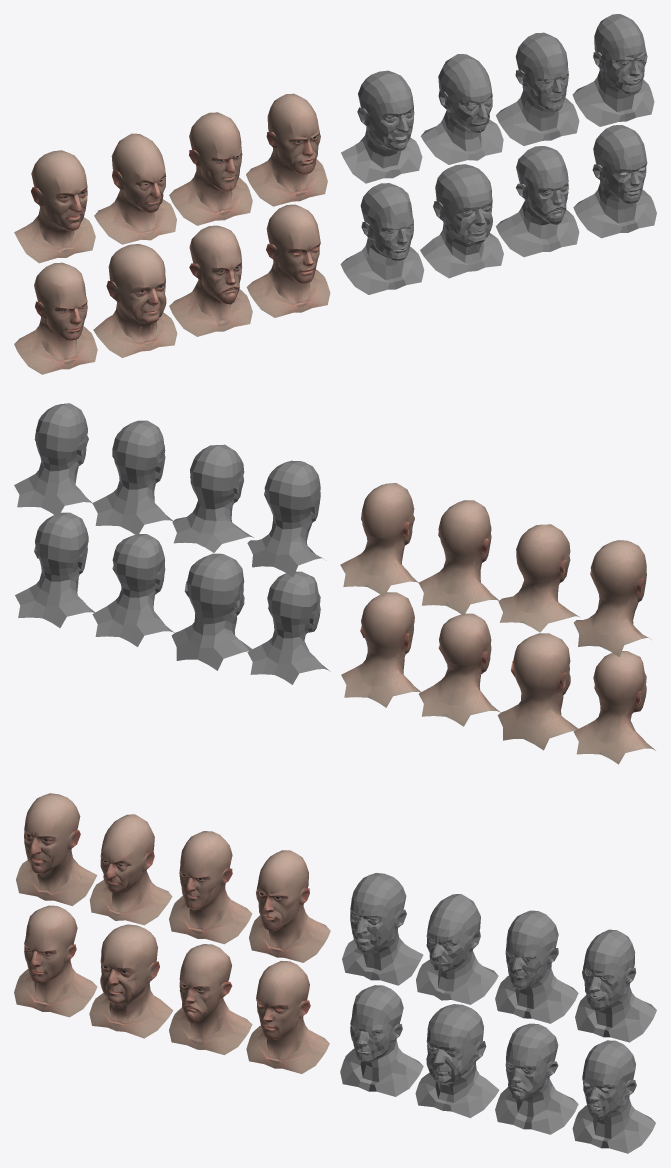
File: depicardstathamrockcruise.glb
3 renders of one model, top to bottom at view 1: azimuth 30°, elevation 25°; view 2: azimuth 150°, elevation 25°; view 3: azimuth 330°, elevation 25°, orthographic.
Visible parts, largest first — view 1: Object_2, Object_5, Object_4; view 2: Object_2, Object_5, Object_4; view 3: Object_2, Object_5, Object_4.
Part boxes in pixels (bbox=[...]): Object_2: bbox=[340, 14, 656, 294]; Object_5: bbox=[14, 204, 330, 374]; Object_4: bbox=[14, 93, 327, 263]; Object_2: bbox=[14, 403, 330, 684]; Object_5: bbox=[341, 592, 655, 764]; Object_4: bbox=[340, 483, 651, 656]; Object_2: bbox=[340, 873, 656, 1153]; Object_5: bbox=[14, 905, 329, 1073]; Object_4: bbox=[16, 793, 330, 962].
Size of the model in its own units: 776 by 246 by 96.03.
Materials: 4 (3 with a texture image).
